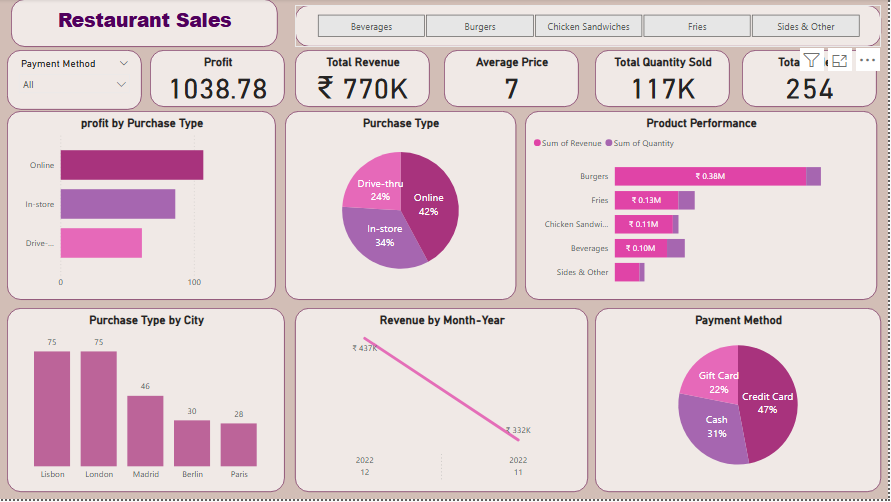

The dashboard page shown, as its layout file describes it:
{"tool":"powerbi","page":{"name":"Page 1","canvas":[1280,720],"ordinal":0},"visuals":[{"type":"card","title":"Total Revenue","fields":{"Values":["Sum(9  Sales-Data-Analysis.Revenue)"]},"box":[248.6,52.1,194.9,82.3],"z":0},{"type":"card","title":"Total Quantity Sold","fields":{"Values":["Sum(9  Sales-Data-Analysis.Quantity)"]},"box":[463.6,52.1,194.9,82.3],"z":1000},{"type":"card","title":"Count of Order ID","fields":{"Values":["CountNonNull(9  Sales-Data-Analysis.Order ID)"]},"box":[697.1,52.1,194.9,82.3],"z":2000},{"type":"lineChart","title":"Revenue by Month-Year","fields":{"Category":["9  Sales-Data-Analysis.Month","9  Sales-Data-Analysis.Year"],"Y":["Sum(9  Sales-Data-Analysis.Revenue)"]},"box":[25.2,134.4,497.2,300.7],"z":3000},{"type":"barChart","title":"Product Performance","fields":{"Category":["9  Sales-Data-Analysis.Product"],"Y":["Sum(9  Sales-Data-Analysis.Revenue)","Sum(9  Sales-Data-Analysis.Quantity)"]},"box":[542.6,142.8,594.6,285.6],"z":4000},{"type":"pieChart","fields":{"Category":["9  Sales-Data-Analysis.Purchase Type"],"Y":["CountNonNull(9  Sales-Data-Analysis.Product)"]},"box":[307.4,445.1,270.4,275.5],"z":4001}]}

Visuals, with their boxes in screenshot pixels (x1, y1, x2, y2), scaled from the page's 1280x720 canvas onto the 891x502 screenshot:
"Total Revenue" card: <region>173, 36, 309, 94</region>
"Total Quantity Sold" card: <region>323, 36, 458, 94</region>
"Count of Order ID" card: <region>485, 36, 621, 94</region>
"Revenue by Month-Year" lineChart: <region>18, 94, 364, 303</region>
"Product Performance" barChart: <region>378, 100, 792, 299</region>
pieChart - 9  Sales-Data-Analysis.Purchase Type x CountNonNull(9  Sales-Data-Analysis.Product): <region>214, 310, 402, 501</region>
